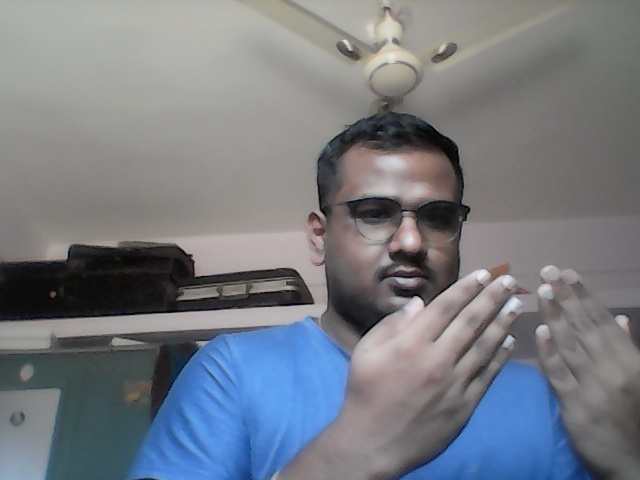Thank You: (344, 263, 640, 461)
